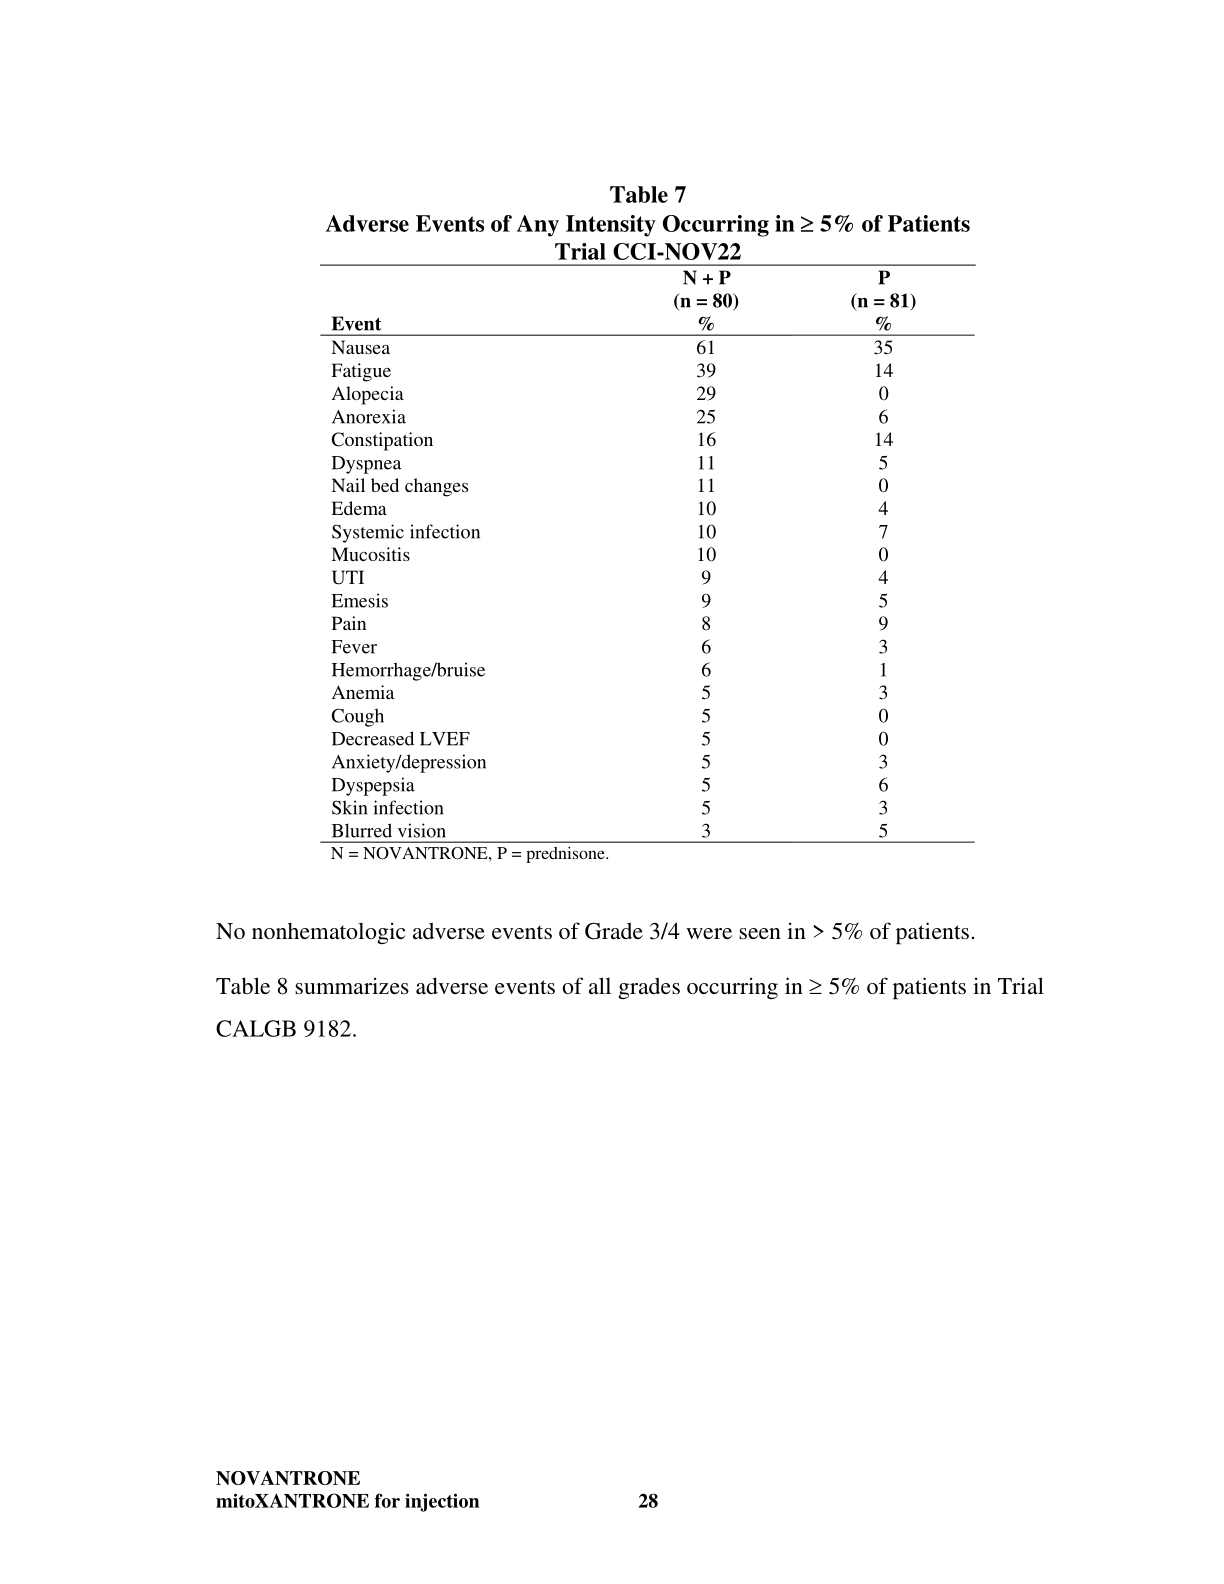partial_lined: (315, 260, 978, 843)
